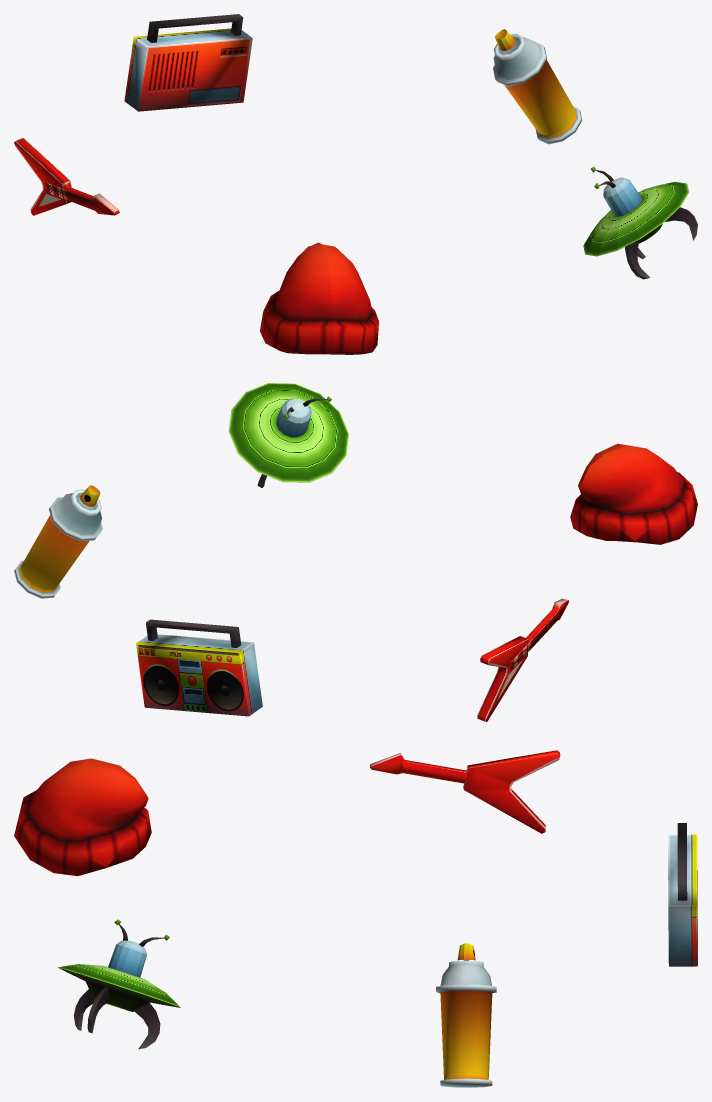
Rendered from TokenSpinner.glb.
3 renders of one model, top to bottom at view 1: azimuth 30°, elevation 25°; view 2: azimuth 150°, elevation 25°; view 3: azimuth 270°, elevation 25°, orthographic. The views are drawn at different scales.
Parts seen in each view (by area): view 1: unlocker_fresh, unlocker_tricky, unlocker_yutani, unlocker_jake, unlocker_spike; view 2: unlocker_tricky, unlocker_fresh, unlocker_yutani, unlocker_jake, unlocker_spike; view 3: unlocker_tricky, unlocker_jake, unlocker_yutani, unlocker_spike, unlocker_fresh.
Part boxes in pixels (x1,y1,x2,y2): unlocker_fresh: (124, 14, 252, 111); unlocker_tricky: (260, 242, 378, 354); unlocker_yutani: (583, 166, 697, 279); unlocker_jake: (493, 29, 582, 144); unlocker_spike: (14, 138, 119, 215); unlocker_tricky: (570, 443, 697, 544); unlocker_fresh: (136, 619, 262, 716); unlocker_yutani: (228, 383, 348, 487); unlocker_jake: (14, 485, 102, 598); unlocker_spike: (477, 598, 568, 721); unlocker_tricky: (14, 758, 151, 875); unlocker_jake: (436, 943, 496, 1087); unlocker_yutani: (57, 919, 180, 1049); unlocker_spike: (369, 750, 560, 833); unlocker_fresh: (668, 823, 697, 966).
Size of the model in its own units: 15.32 by 3.39 by 16.64.
Materials: 1 (1 with a texture image).
